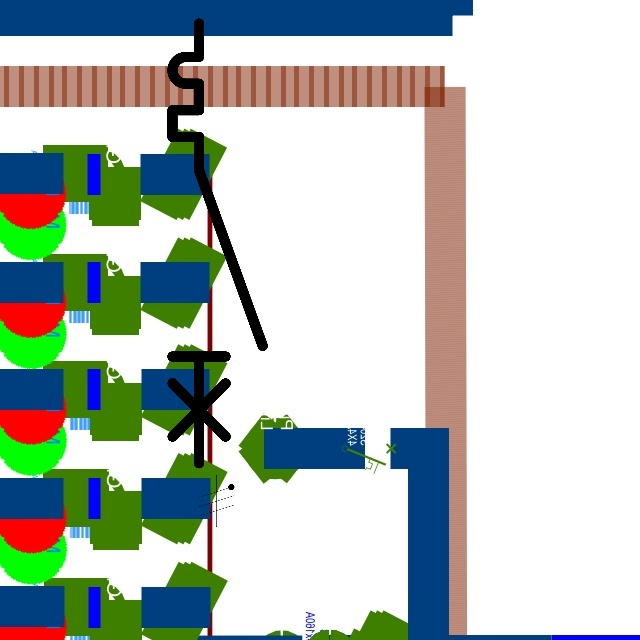interruptor_termomagnetico: (161, 12, 274, 475)
